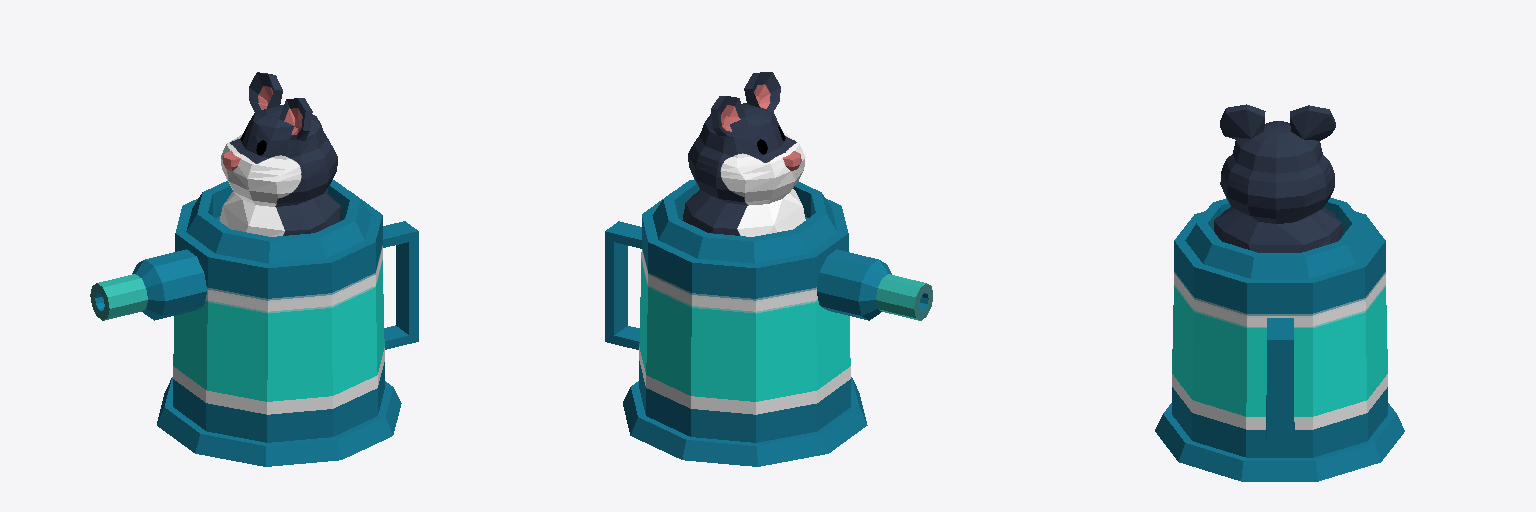
3 views of the same model, side by side, from view 1: azimuth 30°, elevation 25°; view 2: azimuth 150°, elevation 25°; view 3: azimuth 270°, elevation 25° (orthographic).
Parts seen in each view (by area): view 1: polySurface6, polySurface5, polySurface4; view 2: polySurface6, polySurface5, polySurface4; view 3: polySurface6, polySurface5.
Part boxes in pixels (bbox=[...]): polySurface6: bbox=[157, 180, 418, 466]; polySurface5: bbox=[219, 72, 341, 236]; polySurface4: bbox=[90, 249, 206, 320]; polySurface6: bbox=[605, 179, 867, 466]; polySurface5: bbox=[682, 72, 805, 236]; polySurface4: bbox=[817, 249, 932, 320]; polySurface6: bbox=[1155, 197, 1404, 481]; polySurface5: bbox=[1214, 104, 1342, 252].
Bounding box in the file's own units: 3.22 × 3.24 × 2.24.
Materials: 3 (3 with a texture image).